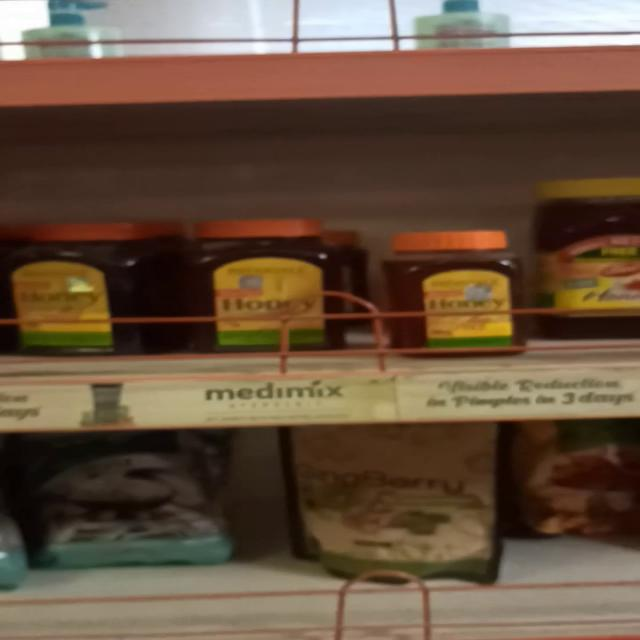Patanjali Honey: (196, 218, 350, 355), (373, 227, 528, 361), (0, 218, 145, 357)
